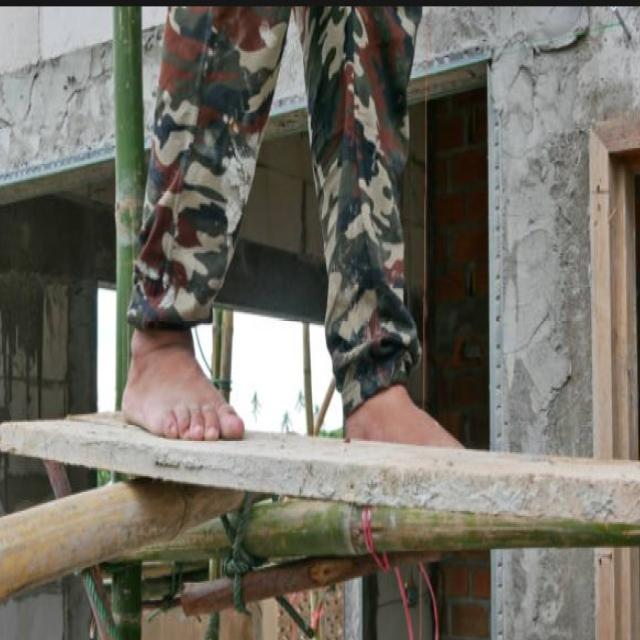Glasses: (106, 317, 269, 470)
